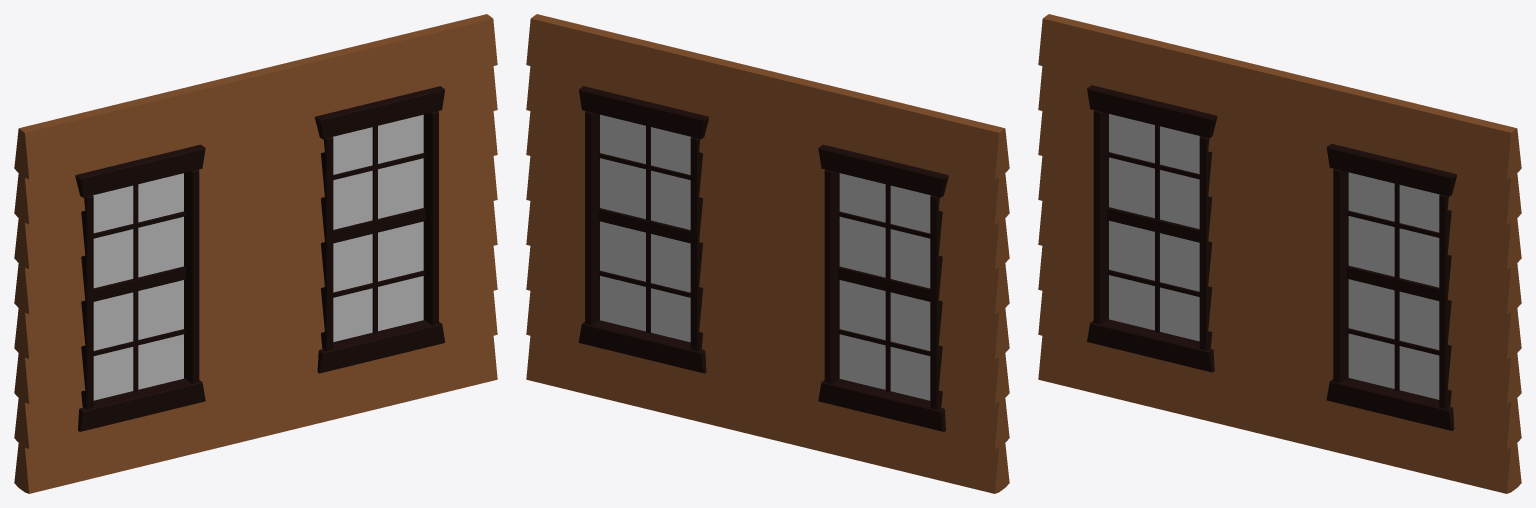
File: ww_window_a.glb
3 renders of one model, left to right at view 1: azimuth 30°, elevation 25°; view 2: azimuth 150°, elevation 25°; view 3: azimuth 330°, elevation 25°, orthographic.
Parts seen in each view (by area): view 1: Window_A; view 2: Window_A; view 3: Window_A.
Boxes of the visible parts, x1,y1,x2,y2 form: Window_A: (14,14,497,493); Window_A: (526,14,1009,493); Window_A: (1038,14,1521,493).
Bounding box in the file's own units: 4.8 × 3.52 × 0.3117.
